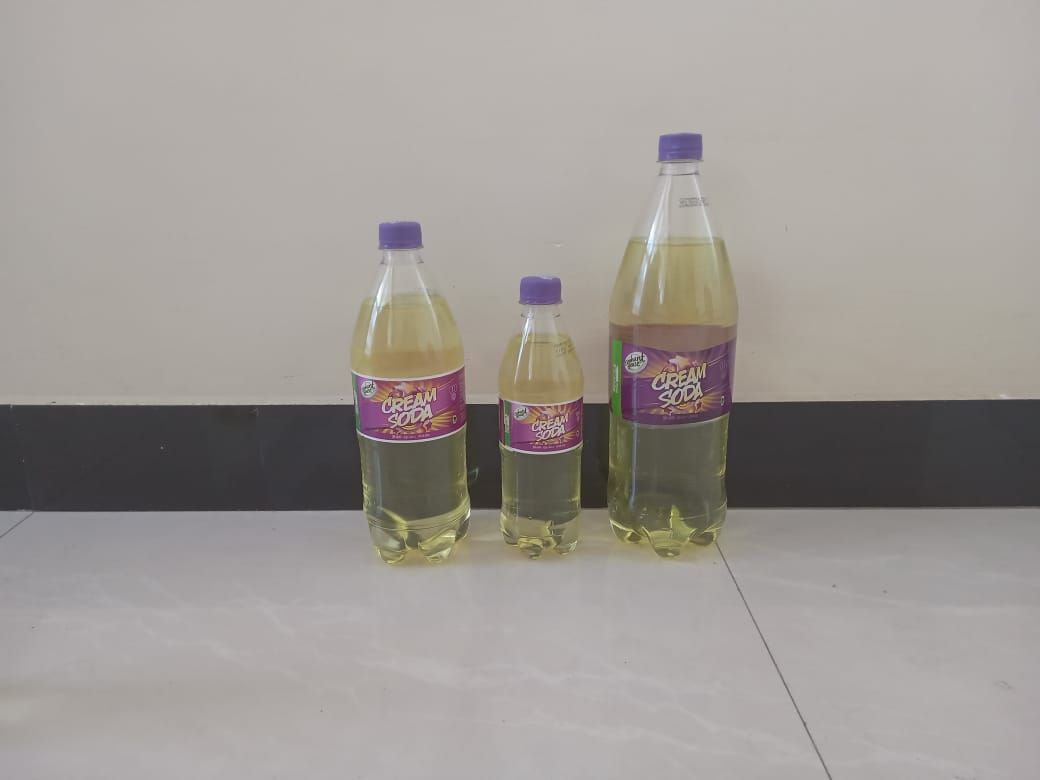L: (607, 134, 735, 559)
M: (347, 223, 474, 570)
S: (497, 272, 582, 563)
